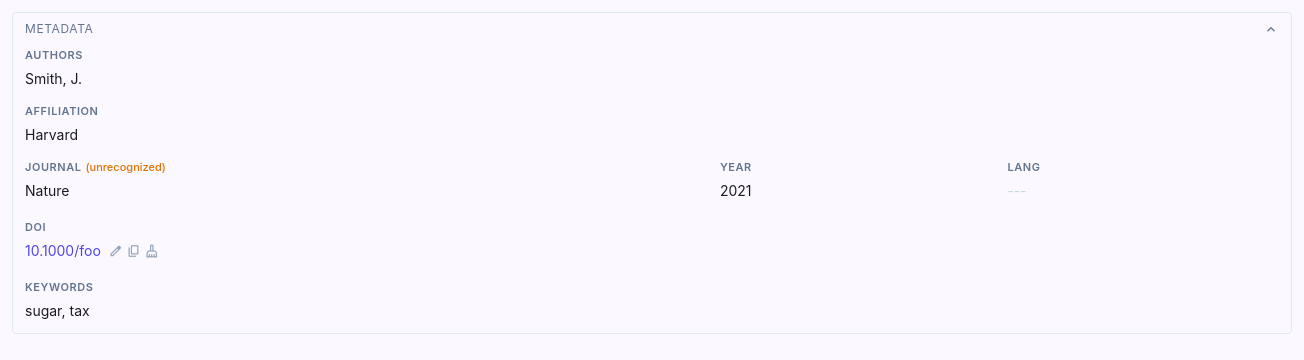
Test: article-metadata.vue › renders a <select> dropdown when editing the language field
Double-click the text with class "cursor-text" showing "---" at (1017, 190), box [1007, 182, 1027, 199]
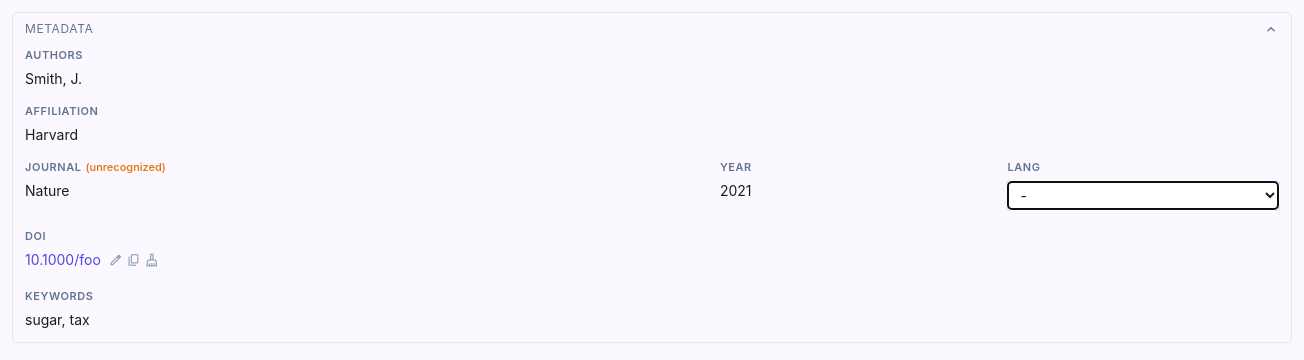
Expected: the dropdown with class "meta-edit-input" is shown, [1007, 181, 1279, 210]
